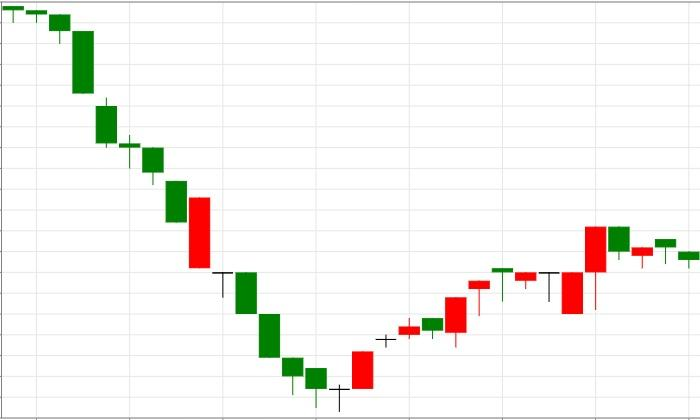morning_star_rise: (26, 9, 374, 413)
